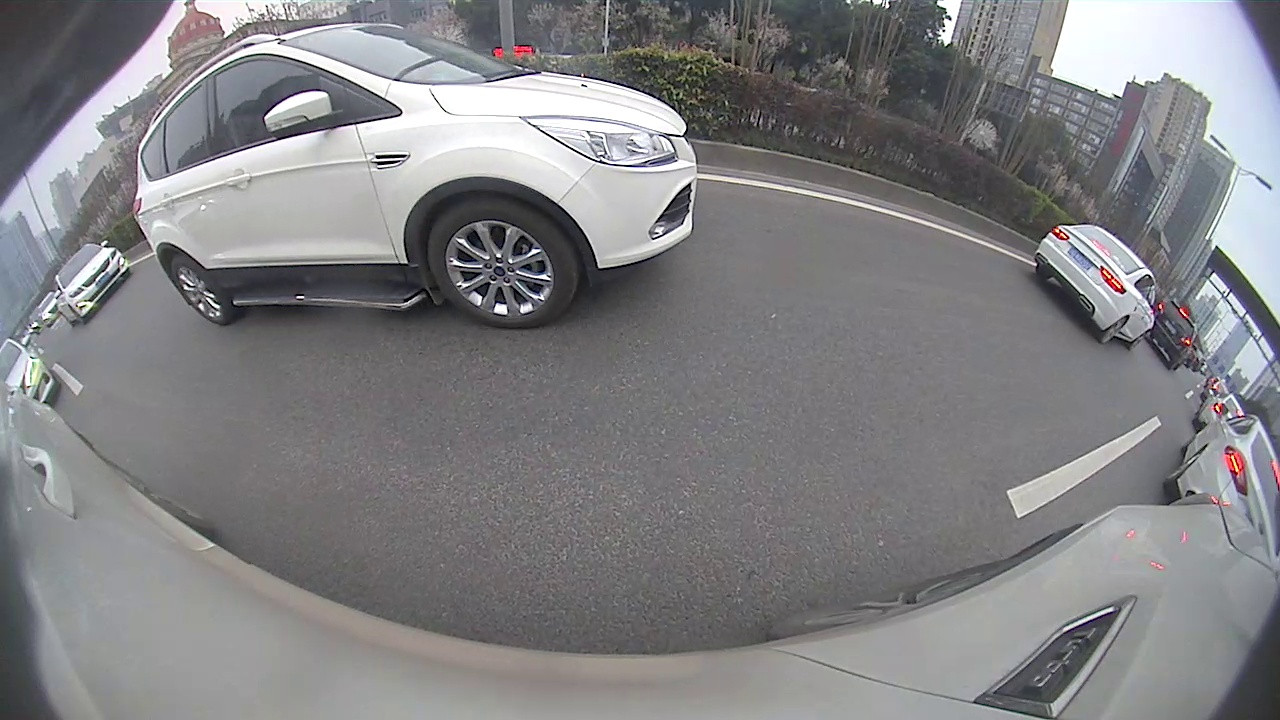car: (130, 20, 697, 332), (1159, 401, 1277, 562), (1032, 222, 1164, 353), (50, 240, 134, 327), (0, 337, 61, 409), (1150, 297, 1199, 375)
front: (429, 195, 580, 329)
rear: (169, 252, 232, 326), (1099, 319, 1128, 345)
